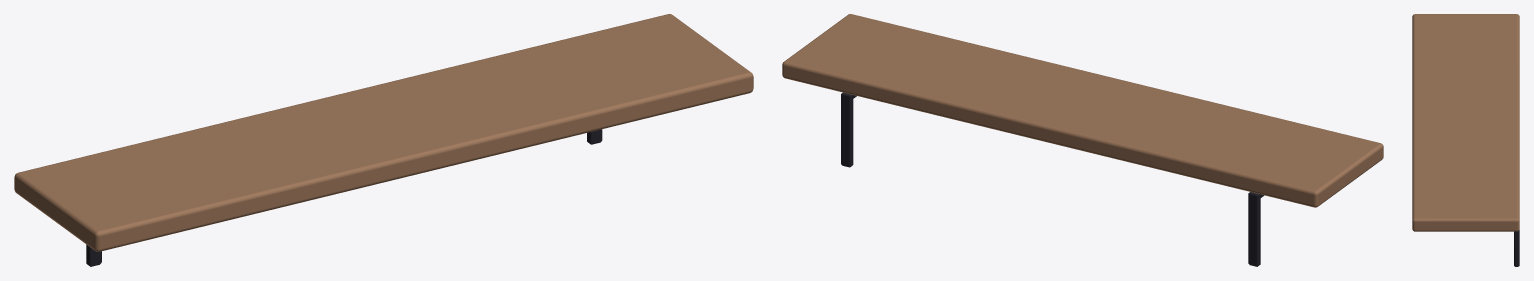
The model's file is trinket_shelf.fbx.
The picture shows the model from 3 angles, left to right: view 1: azimuth 30°, elevation 25°; view 2: azimuth 150°, elevation 25°; view 3: azimuth 270°, elevation 25°; orthographic projection. The views are drawn at different scales.
Parts seen in each view (by area): view 1: trinket_shelf; view 2: trinket_shelf; view 3: trinket_shelf.
Part boxes in pixels (x1,y1,x2,y2): trinket_shelf: [14, 14, 753, 266]; trinket_shelf: [782, 14, 1383, 266]; trinket_shelf: [1412, 14, 1519, 266].
Size of the model in its own units: 1 by 0.16 by 0.22.
